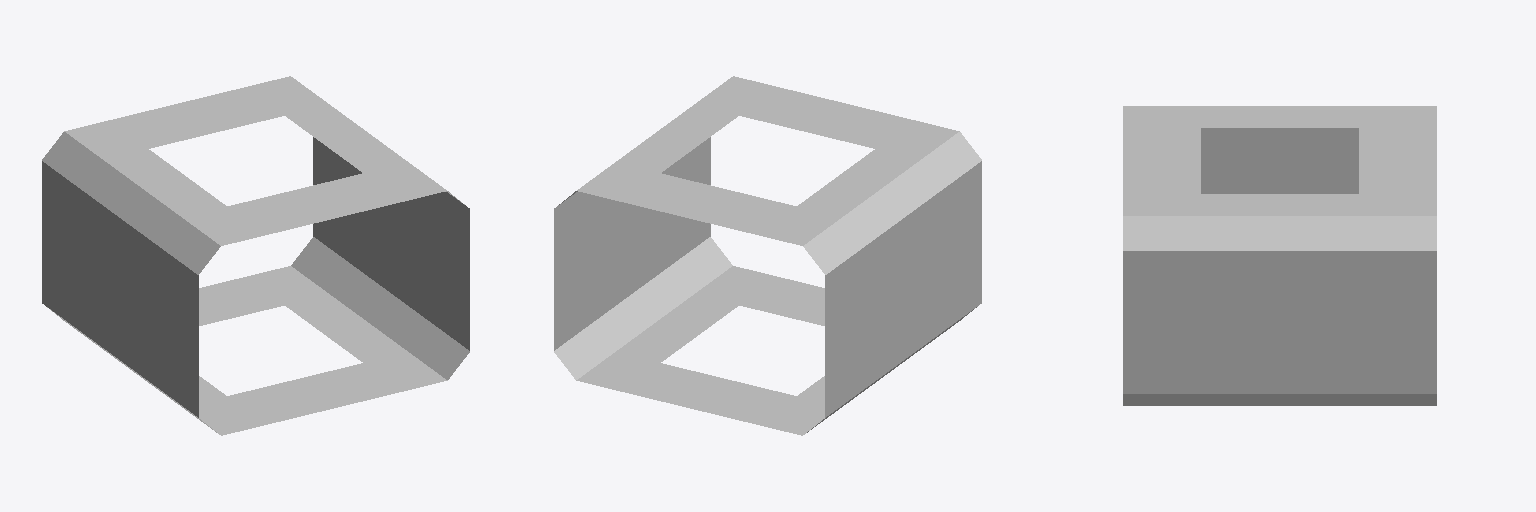
Rendered from Corridor_DoubleHole.obj.
3 renders of one model, left to right at view 1: azimuth 30°, elevation 25°; view 2: azimuth 150°, elevation 25°; view 3: azimuth 270°, elevation 25°, orthographic.
Parts seen in each view (by area): view 1: Corridor_Floor_Intersection_Cube.026; view 2: Corridor_Floor_Intersection_Cube.026; view 3: Corridor_Floor_Intersection_Cube.026.
Boxes of the visible parts, x1=… form: Corridor_Floor_Intersection_Cube.026: x1=42, y1=76, x2=469, y2=435; Corridor_Floor_Intersection_Cube.026: x1=554, y1=76, x2=981, y2=435; Corridor_Floor_Intersection_Cube.026: x1=1123, y1=106, x2=1436, y2=405.
Bounding box in the file's own units: 6 × 4 × 6.